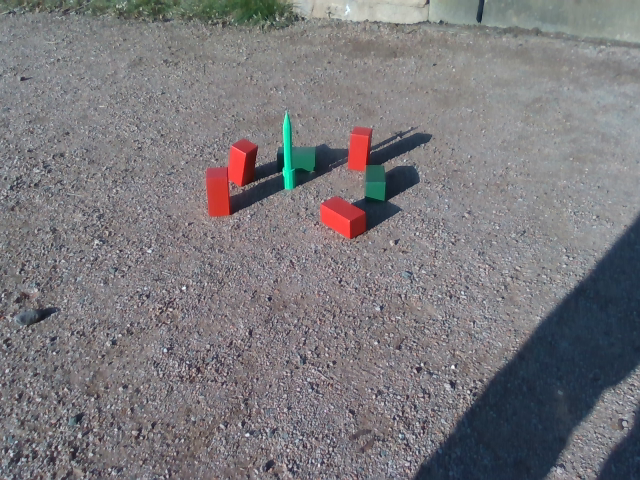Probe: (278, 110, 298, 190)
